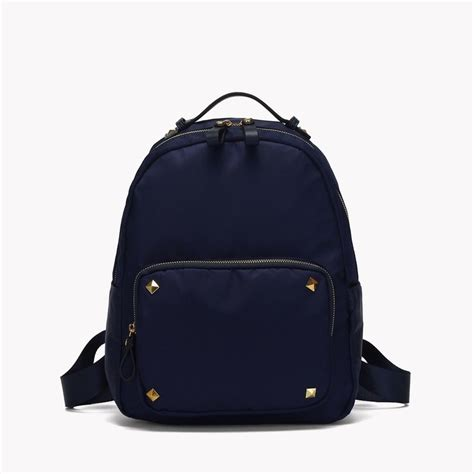nylon: (102, 114, 362, 427)
